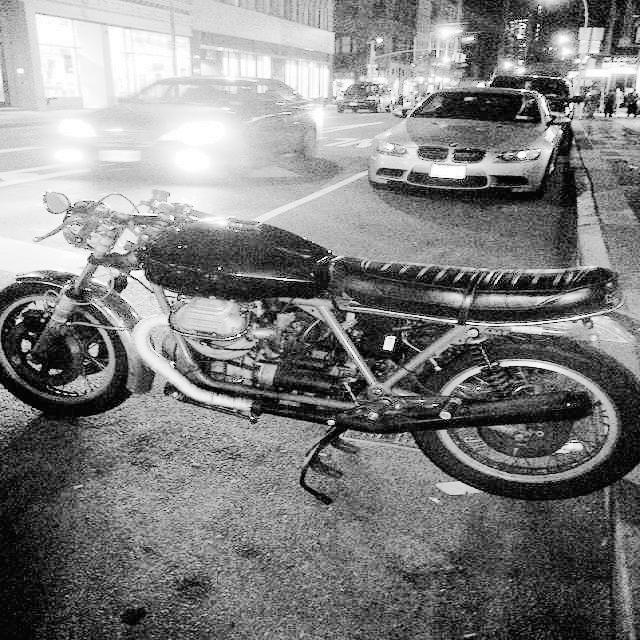Car: (47, 67, 345, 204), (361, 68, 582, 211), (487, 58, 582, 121)
Motorcycle: (0, 174, 638, 489)
